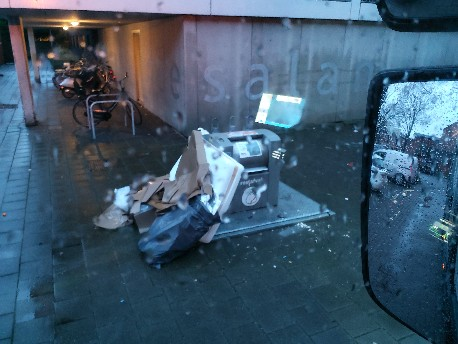Container: (223, 130, 291, 211)
Papier: (110, 205, 159, 246), (129, 177, 193, 208), (168, 139, 199, 177)
Rest: (182, 142, 241, 223), (145, 203, 193, 258)
